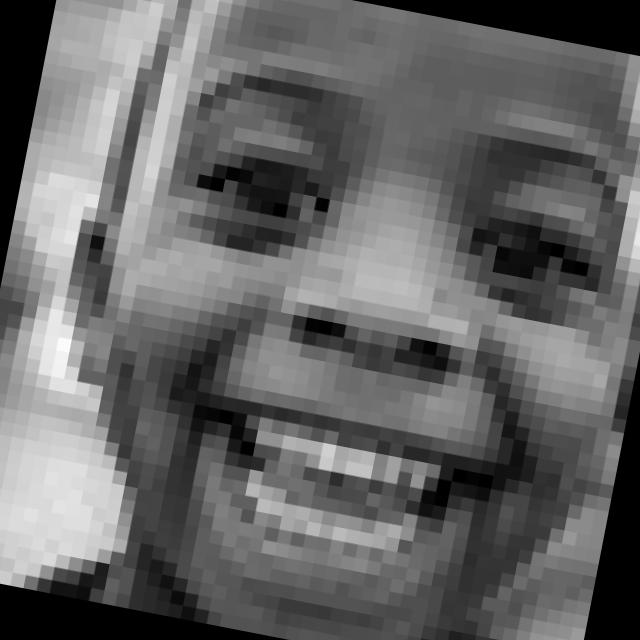happy: (86, 47, 640, 640)
